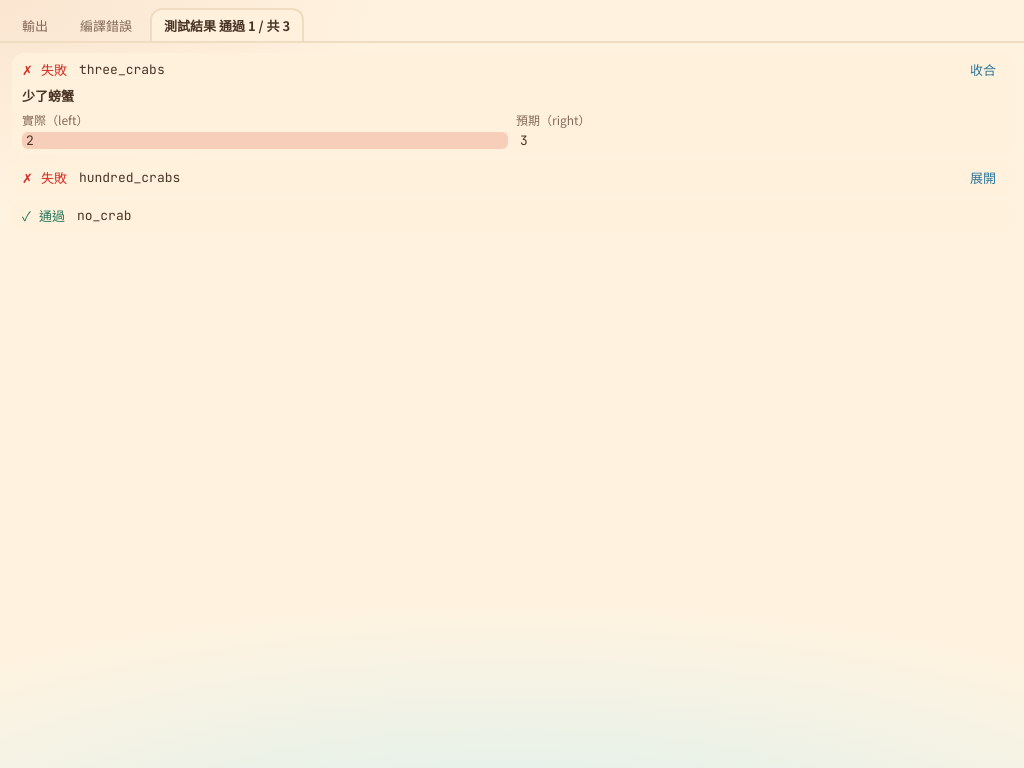
F6/F7 ConsolePanel › test_failed › 展開失敗列：自訂訊息當標題，實際與預期並排
The width and height of the screenshot is (1024, 768).
Click the button with test id "test-toggle" showing "展開" at (983, 178), box [964,167,1002,188]
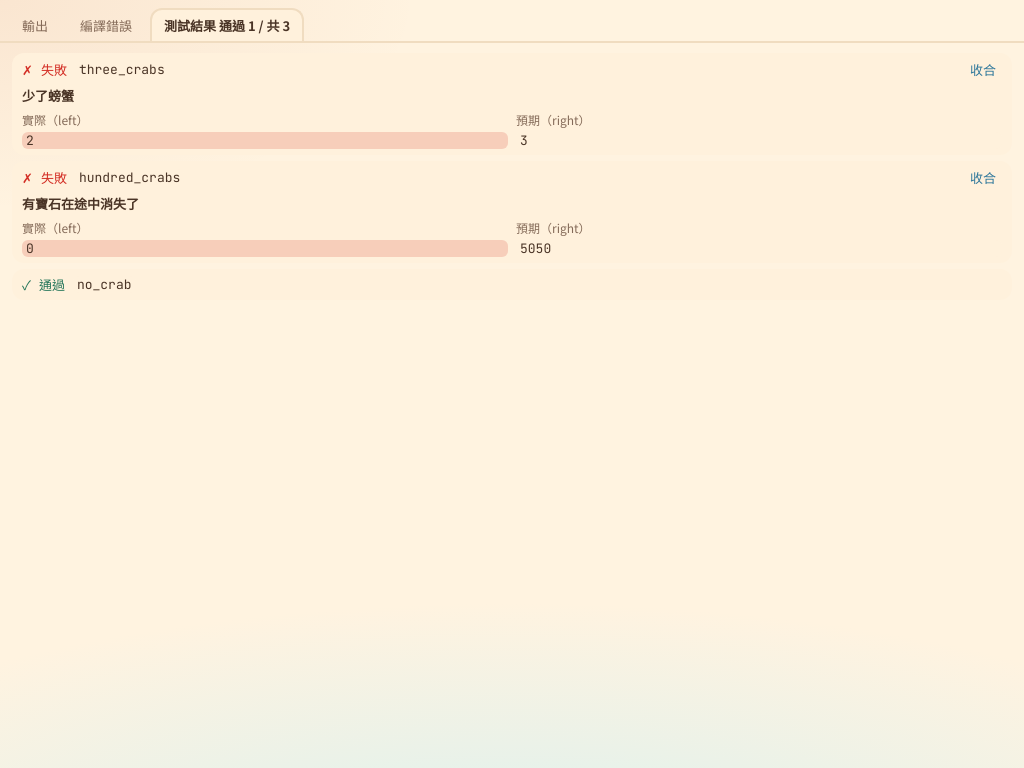
Result: the text with test id "assert-title" reads "有寶石在途中消失了" at [22,194,139,213]
Result: the element with test id "assert-actual" shows "實際（left）" at [22,219,88,236]
Result: the element with test id "assert-actual" shows "0" at [26,240,34,257]
